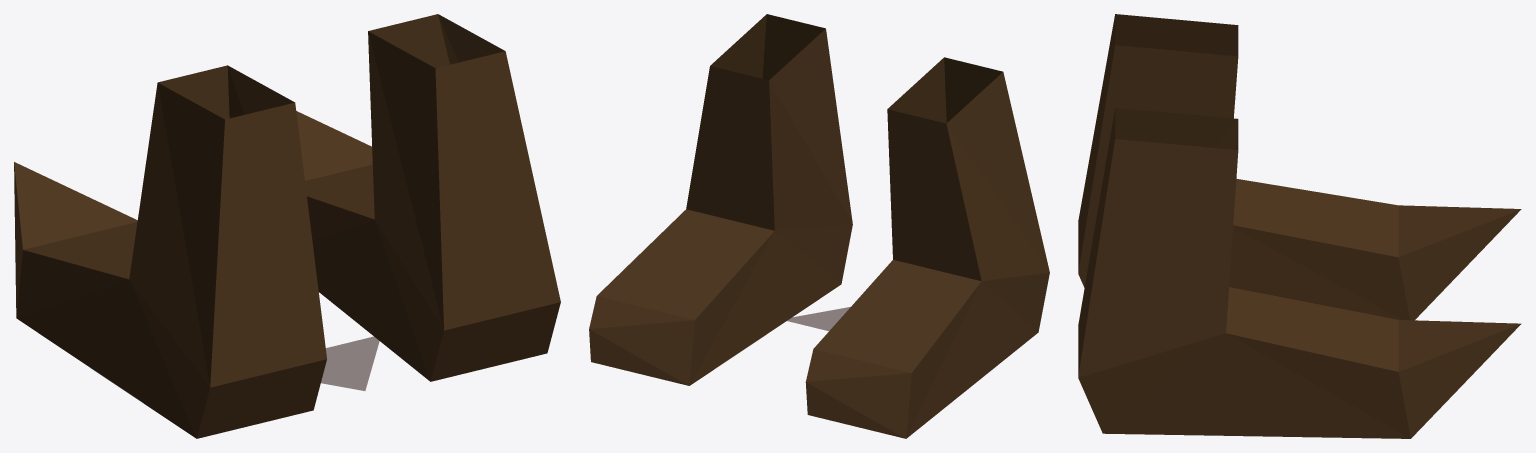
The model's file is player_male_feet_44_0.obj.
3 views of the same model, side by side, from view 1: azimuth 30°, elevation 25°; view 2: azimuth 150°, elevation 25°; view 3: azimuth 270°, elevation 25° (orthographic). The views are drawn at different scales.
Bounding box in the file's own units: 0.25 × 0.1953 × 0.2812.
